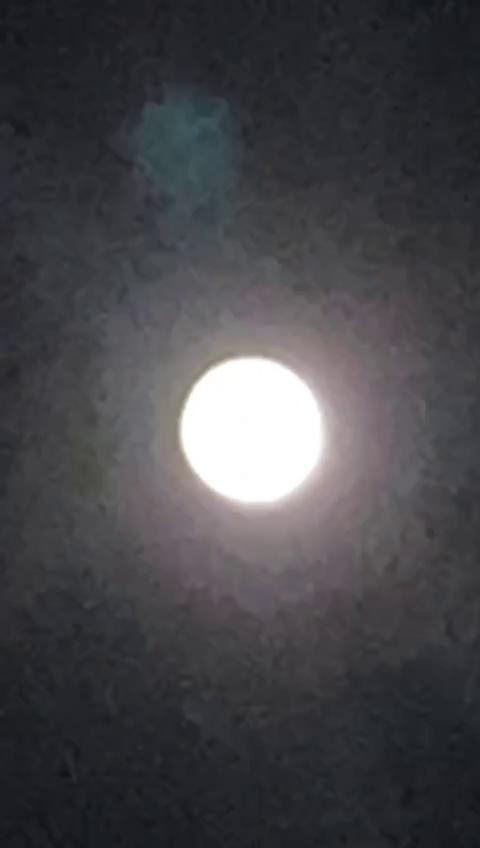moon: (176, 346, 351, 537)
